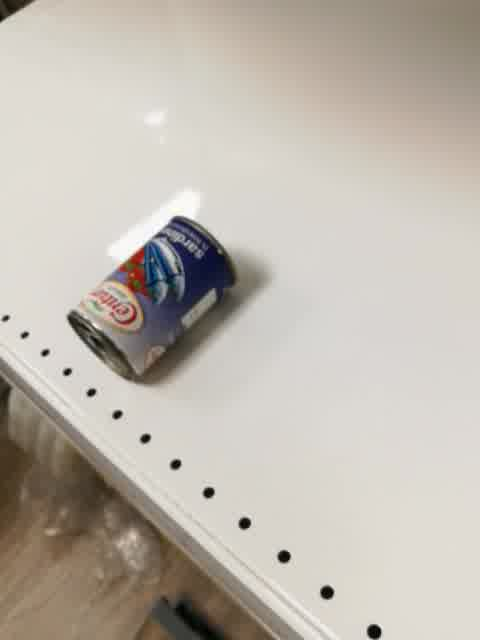sardine: (66, 215, 238, 383)
